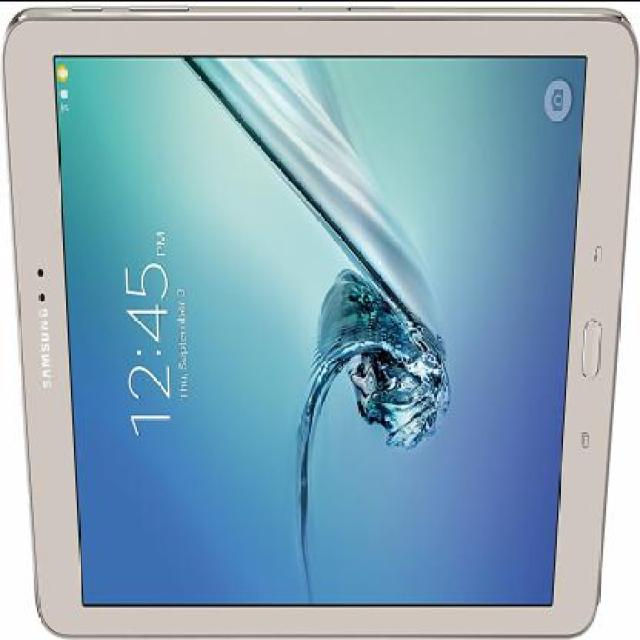tablet: (2, 7, 612, 639)
